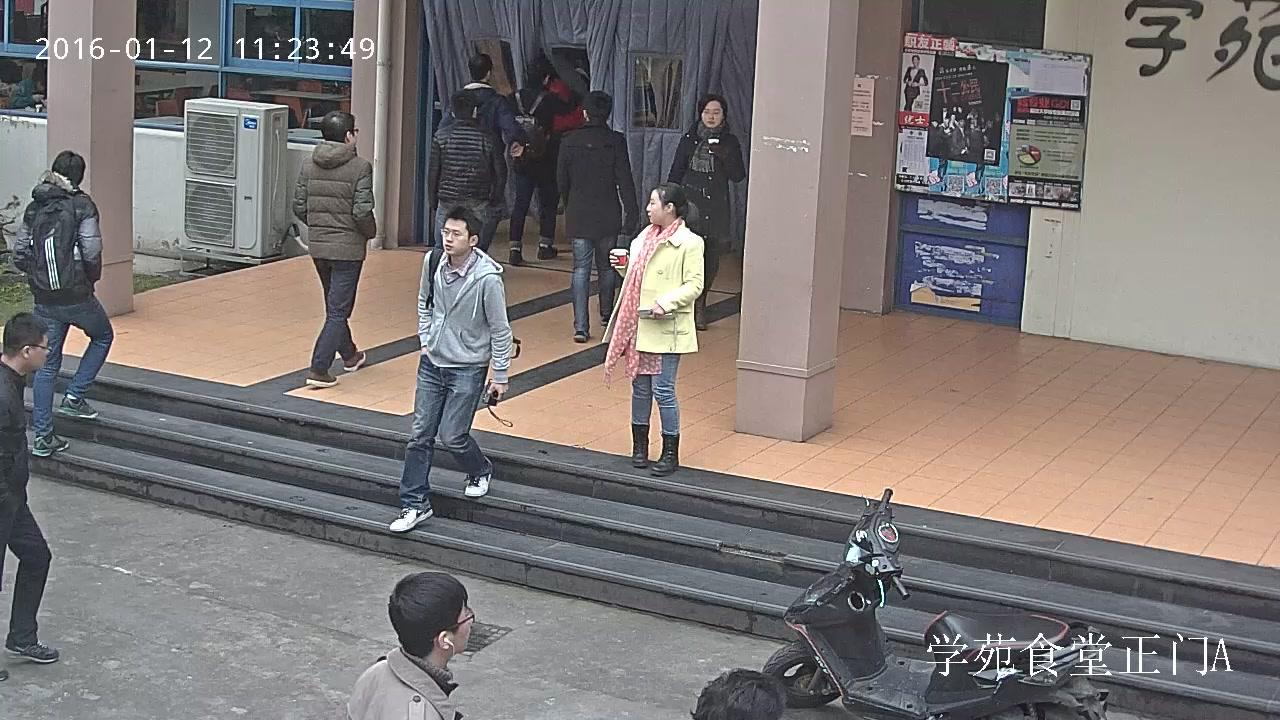person: (388, 205, 514, 532), (11, 148, 114, 456), (600, 181, 705, 473), (292, 110, 375, 387), (556, 89, 643, 343), (0, 310, 59, 681), (345, 571, 474, 720), (666, 92, 746, 332), (504, 56, 585, 266), (427, 88, 507, 253), (435, 51, 528, 162), (540, 69, 588, 217), (7, 66, 46, 108), (901, 55, 927, 112)
